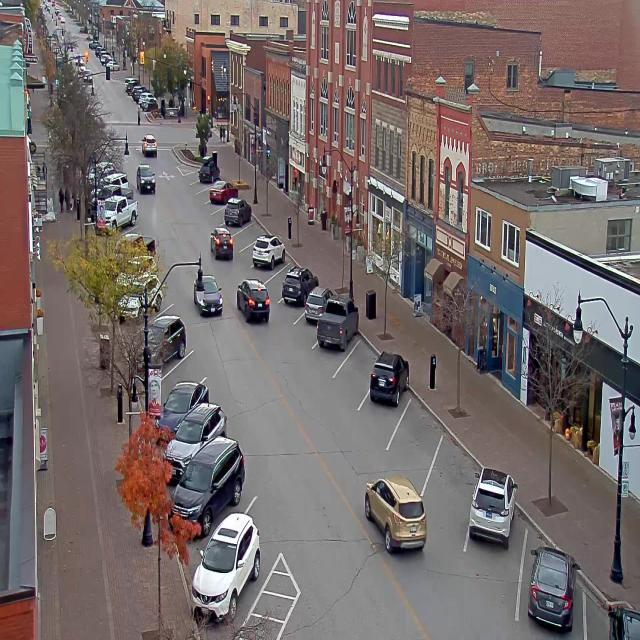available: (386, 391, 446, 468), (424, 435, 476, 507), (334, 336, 378, 393), (160, 344, 215, 380), (264, 262, 290, 298), (233, 217, 262, 246), (235, 238, 256, 269), (207, 205, 226, 227), (196, 182, 212, 205), (184, 170, 198, 186)
occupied: (184, 502, 266, 618), (168, 435, 246, 538), (527, 545, 580, 631), (163, 395, 230, 463), (468, 466, 517, 547), (154, 378, 208, 442), (593, 588, 640, 639), (316, 296, 358, 352), (368, 348, 408, 406), (142, 312, 187, 363), (282, 264, 318, 305), (252, 232, 285, 269), (302, 287, 324, 327), (224, 197, 251, 227), (208, 181, 238, 205), (198, 159, 219, 182)
